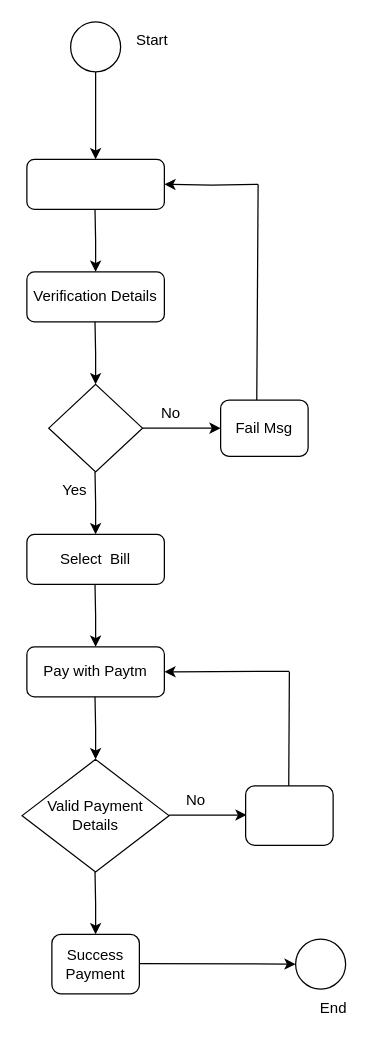
Some shapes in this 380 by 1049 pixel diagram are drawn without their labels. The centre of each missing label's shape, as x and y in pixels:
"Display Error" belongs at (x=288, y=815).
"Success" belongs at (x=95, y=427).
"Username & Passward" belongs at (x=95, y=183).
